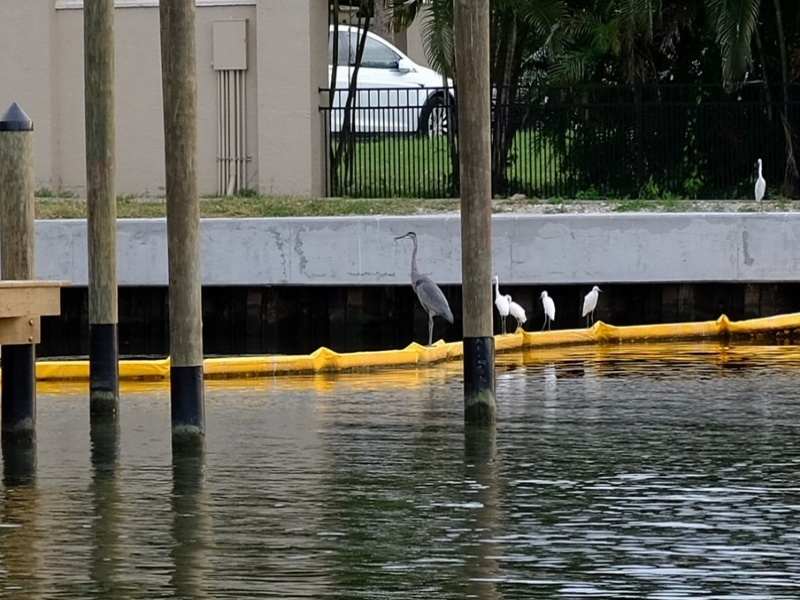heron: (391, 229, 454, 348), (488, 274, 511, 338), (749, 155, 772, 217), (579, 282, 604, 328), (538, 283, 558, 330), (508, 290, 529, 334)
